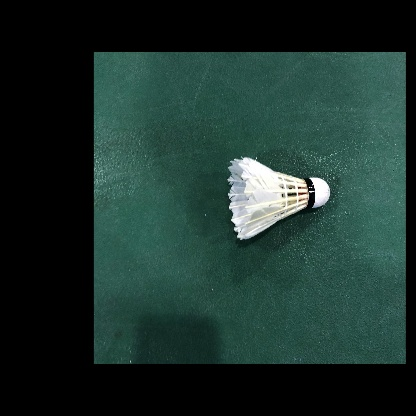ball_single: (227, 157, 330, 240)
